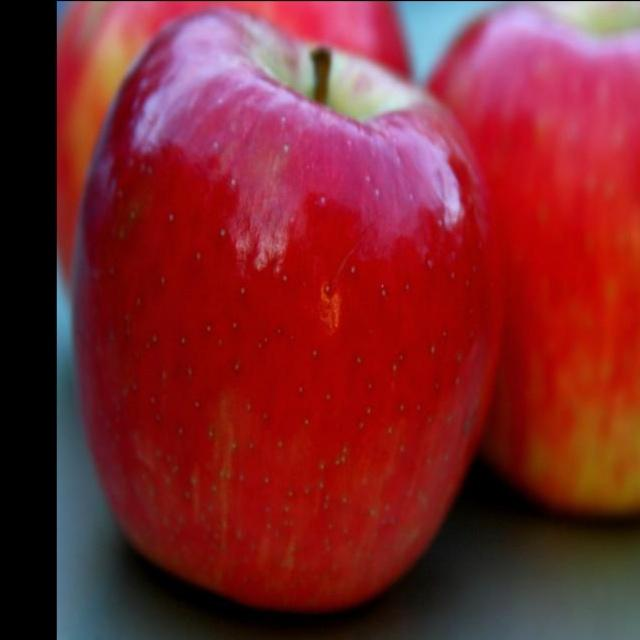red apple: (75, 9, 492, 615)
